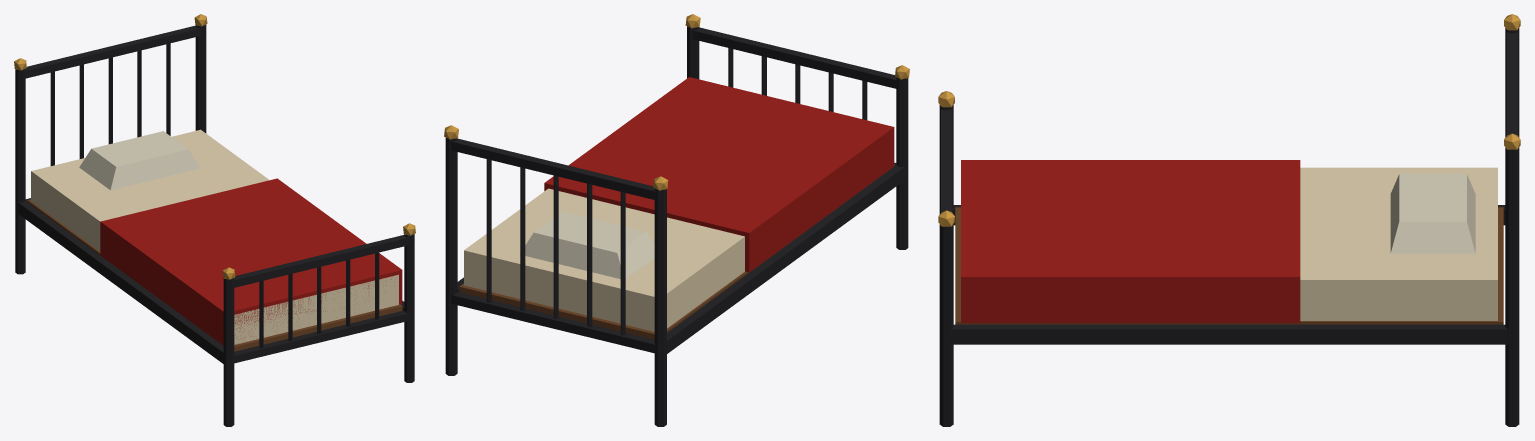
The model's file is SM_Bed_Iron.obj.
The picture shows the model from 3 angles, left to right: view 1: azimuth 30°, elevation 25°; view 2: azimuth 150°, elevation 25°; view 3: azimuth 270°, elevation 25°; orthographic projection. The views are drawn at different scales.
Parts seen in each view (by area): view 1: SM_Bed_Iron; view 2: SM_Bed_Iron; view 3: SM_Bed_Iron.
Boxes of the visible parts, box(x1,y1,x2,y2) form: SM_Bed_Iron: box(14, 14, 415, 426); SM_Bed_Iron: box(444, 14, 909, 426); SM_Bed_Iron: box(938, 14, 1520, 426).
Bounding box in the file's own units: 1.06 × 1.13 × 2.06.
